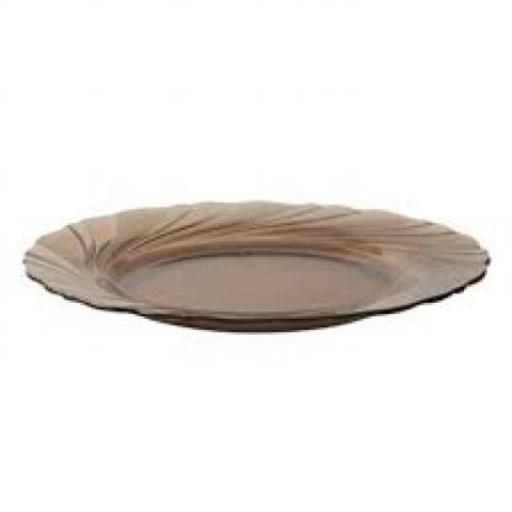glass: (23, 200, 487, 337)
